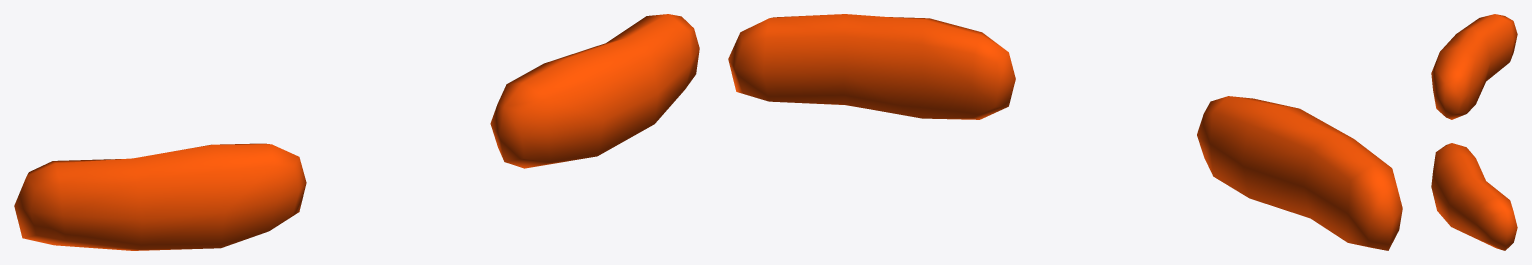
File: Eyebrows_01_06.fbx
The picture shows the model from 3 angles, left to right: view 1: azimuth 30°, elevation 25°; view 2: azimuth 150°, elevation 25°; view 3: azimuth 270°, elevation 25°; orthographic projection. The views are drawn at different scales.
Parts seen in each view (by area): view 1: Eyebrows_01_06; view 2: Eyebrows_01_06; view 3: Eyebrows_01_06.
Part boxes in pixels (x1,y1,x2,y2): Eyebrows_01_06: (14, 14, 699, 250); Eyebrows_01_06: (728, 14, 1402, 250); Eyebrows_01_06: (1431, 14, 1517, 250).
Size of the model in its own units: 18.54 by 2.63 by 3.34.
